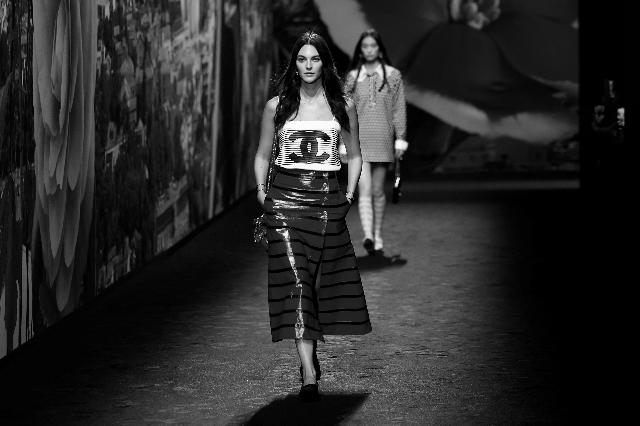Chanel: (283, 128, 337, 168)
